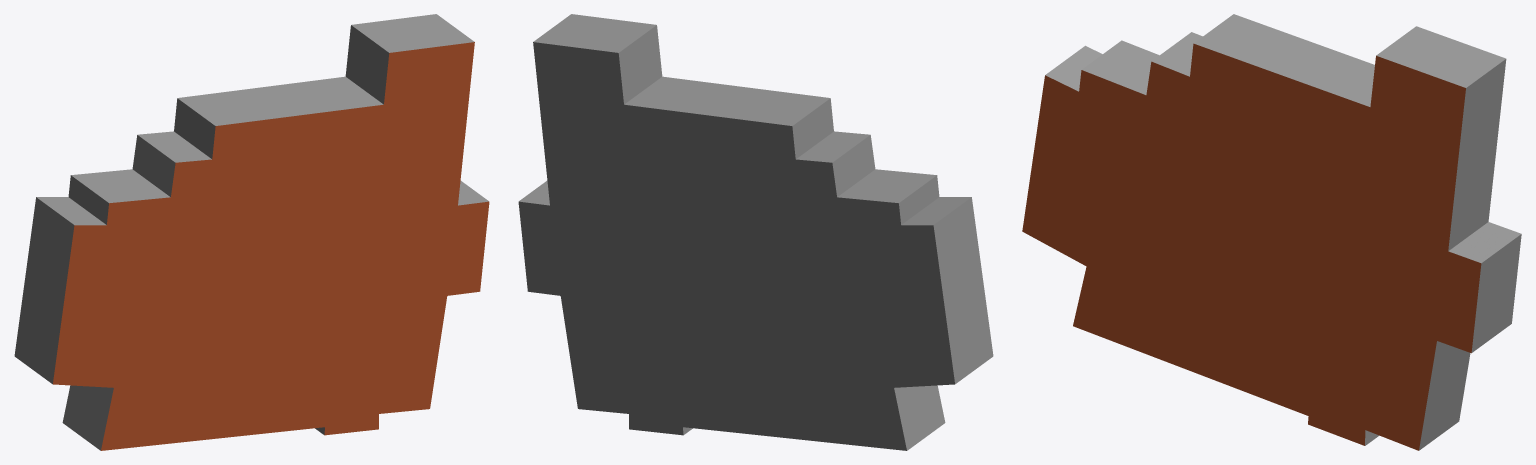
Rendered from construction_1090_assumed_A_Igreja_matriz_h6m.obj.
3 renders of one model, left to right at view 1: azimuth 30°, elevation 25°; view 2: azimuth 150°, elevation 25°; view 3: azimuth 330°, elevation 25°, orthographic. The views are drawn at different scales.
Visible parts, largest first — view 1: construction_1090_assumed_A_Igreja_matriz; view 2: construction_1090_assumed_A_Igreja_matriz; view 3: construction_1090_assumed_A_Igreja_matriz.
Part boxes in pixels (x1,y1,x2,y2): construction_1090_assumed_A_Igreja_matriz: (14,14,489,450); construction_1090_assumed_A_Igreja_matriz: (518,14,993,450); construction_1090_assumed_A_Igreja_matriz: (1022,14,1521,450).
Bounding box in the file's own units: 39.47 × 32.29 × 6.
